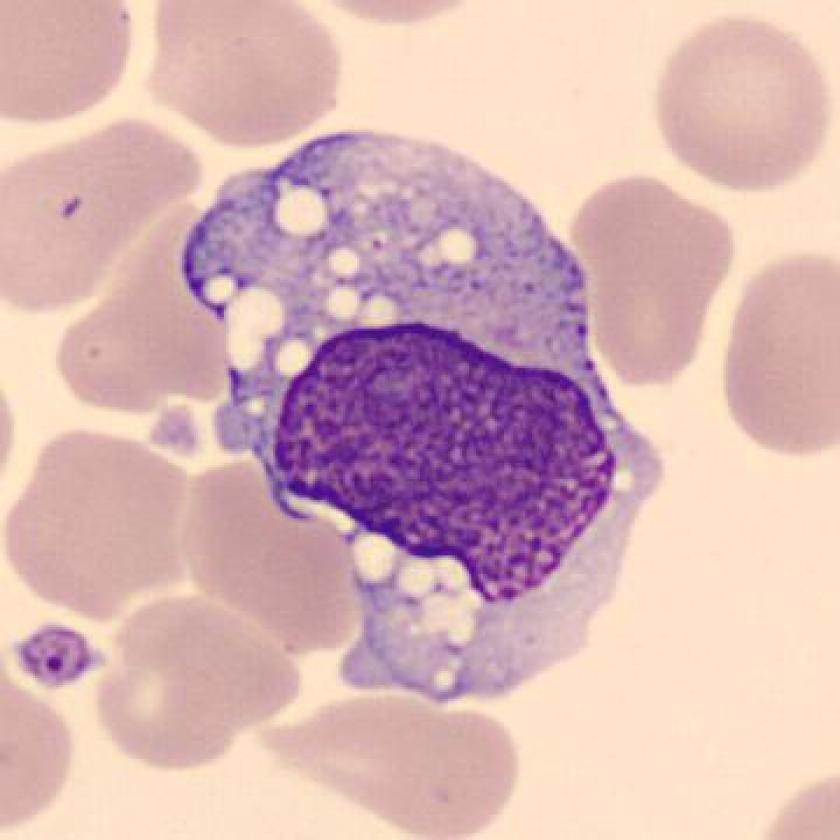monocyte: (164, 107, 685, 723)
